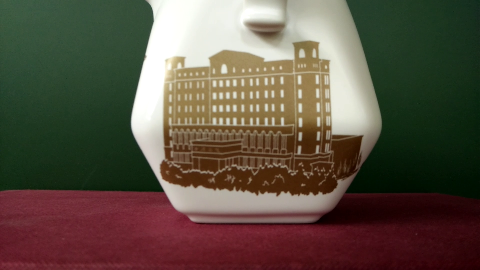law: (166, 60, 357, 191)
